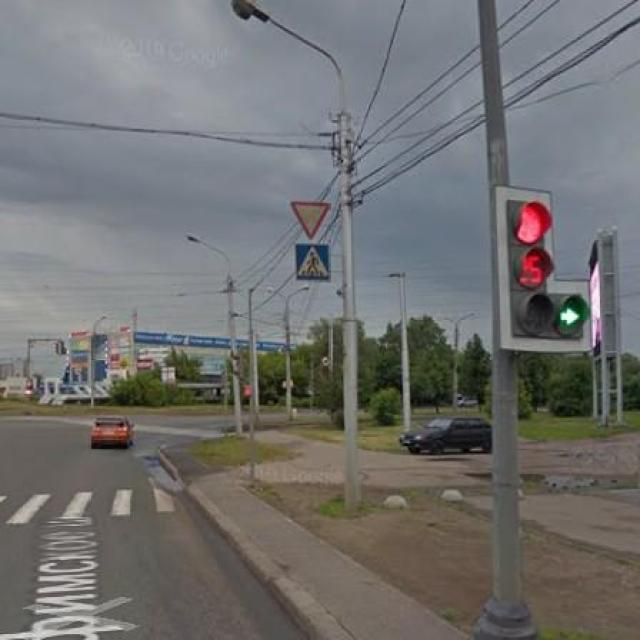crosswalk: (292, 237, 337, 286)
give_way: (290, 196, 333, 242)
